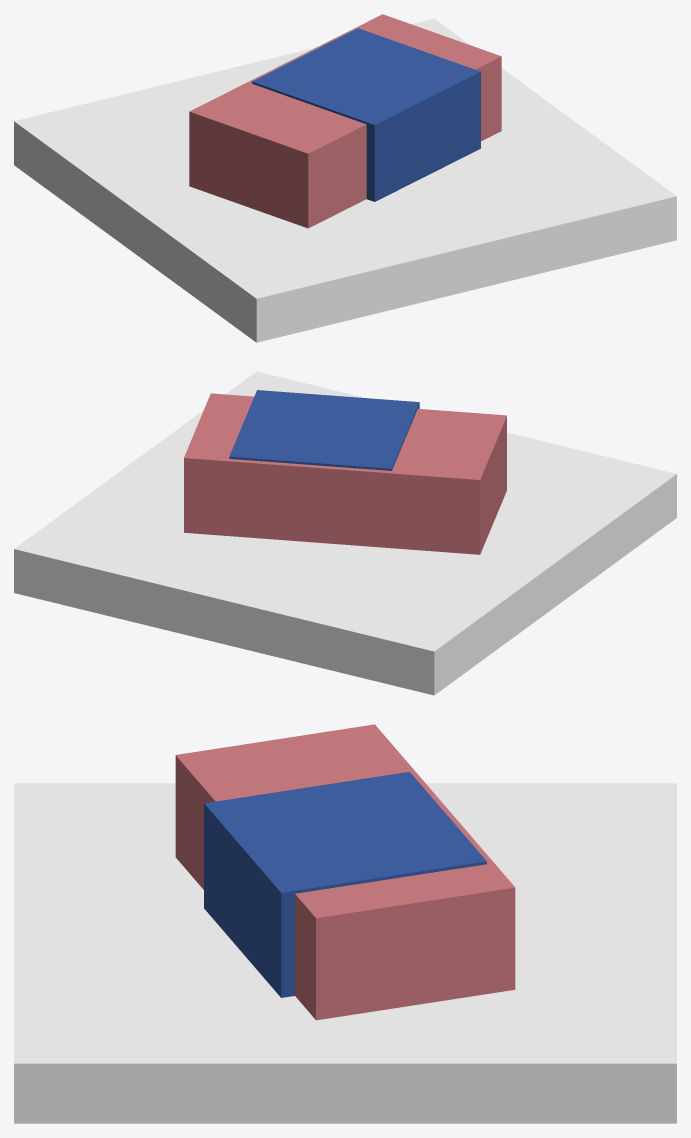
Rendered from skirt_eraser.glb.
3 renders of one model, top to bottom at view 1: azimuth 30°, elevation 25°; view 2: azimuth 150°, elevation 25°; view 3: azimuth 270°, elevation 25°, orthographic. The views are drawn at different scales.
Parts seen in each view (by area): view 1: skirt_eraser; view 2: skirt_eraser; view 3: skirt_eraser.
Part boxes in pixels (x1,y1,x2,y2): skirt_eraser: [14, 14, 676, 342]; skirt_eraser: [14, 371, 676, 695]; skirt_eraser: [14, 724, 676, 1123].
Bounding box in the file's own units: 1 × 0.275 × 1.
